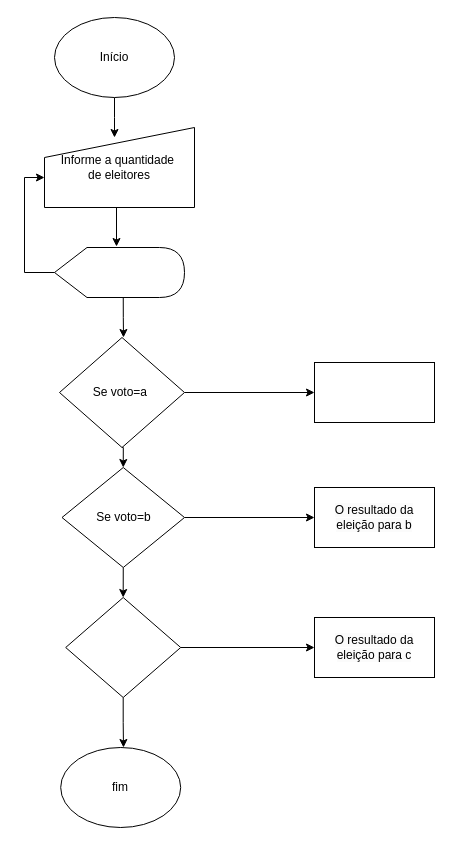
Some shapes in this 452 by 845 pixel diagram are drawn without their labels. Each missing label, with the centre of its shape:
i=1;i<= eleitores;i++: the point at 119,272
O resultado da eleição para a: the point at 374,392
Se voto=c: the point at 123,647
